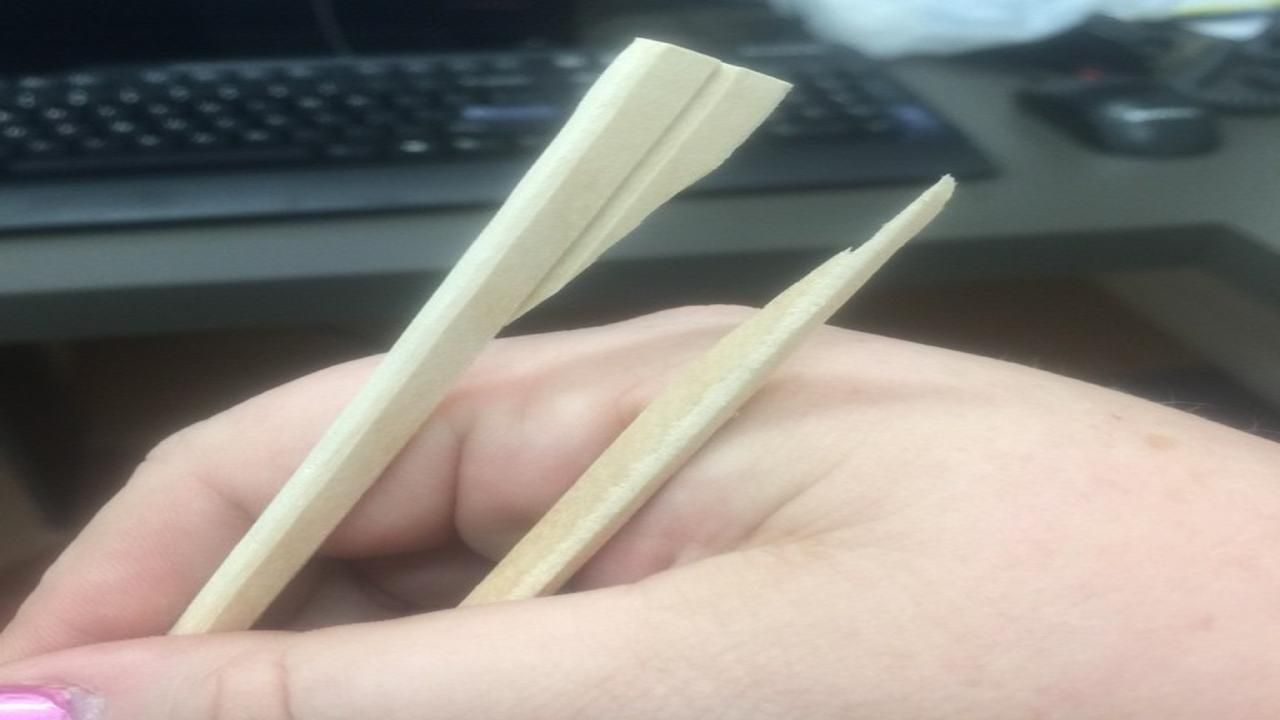chopstick: (171, 35, 793, 636), (472, 174, 962, 608)
